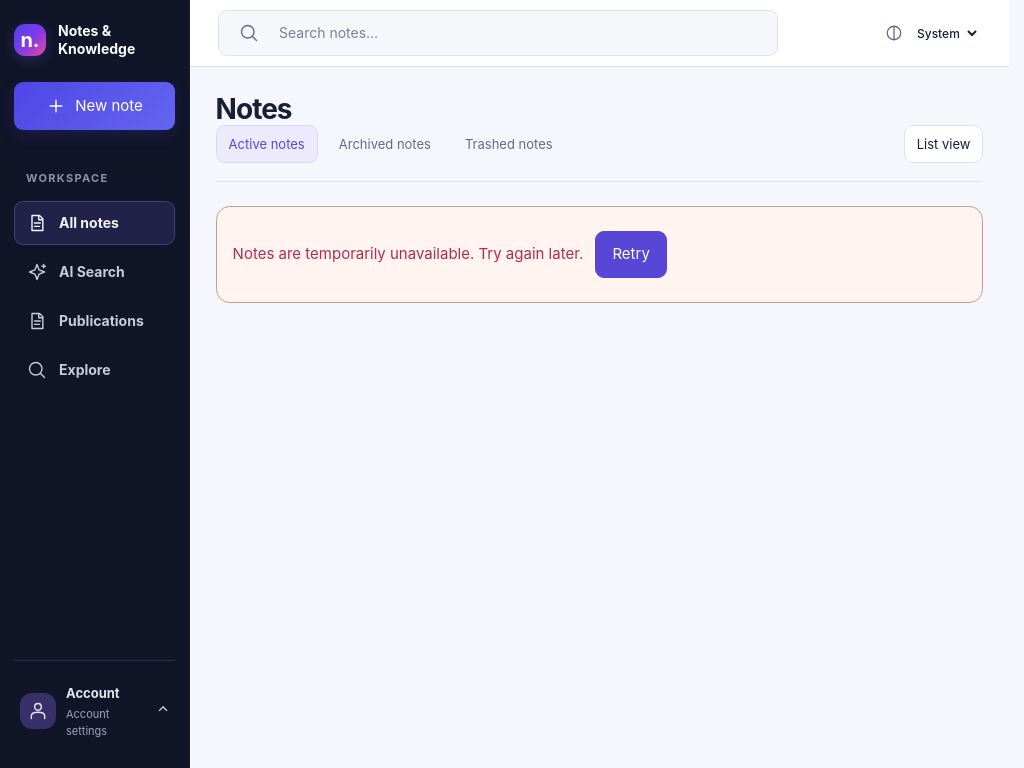
Test: private Notes browser journey › keeps library failure distinct from empty state and exposes a working retry
The image size is (1024, 768).
Expected: the message shows "Notes are temporarily unavailable", [233,244,583,263]
Expected: the text "No notes yet" is not shown
Step 1. Click the button "Retry" → (631, 254), box [595,231,667,278]
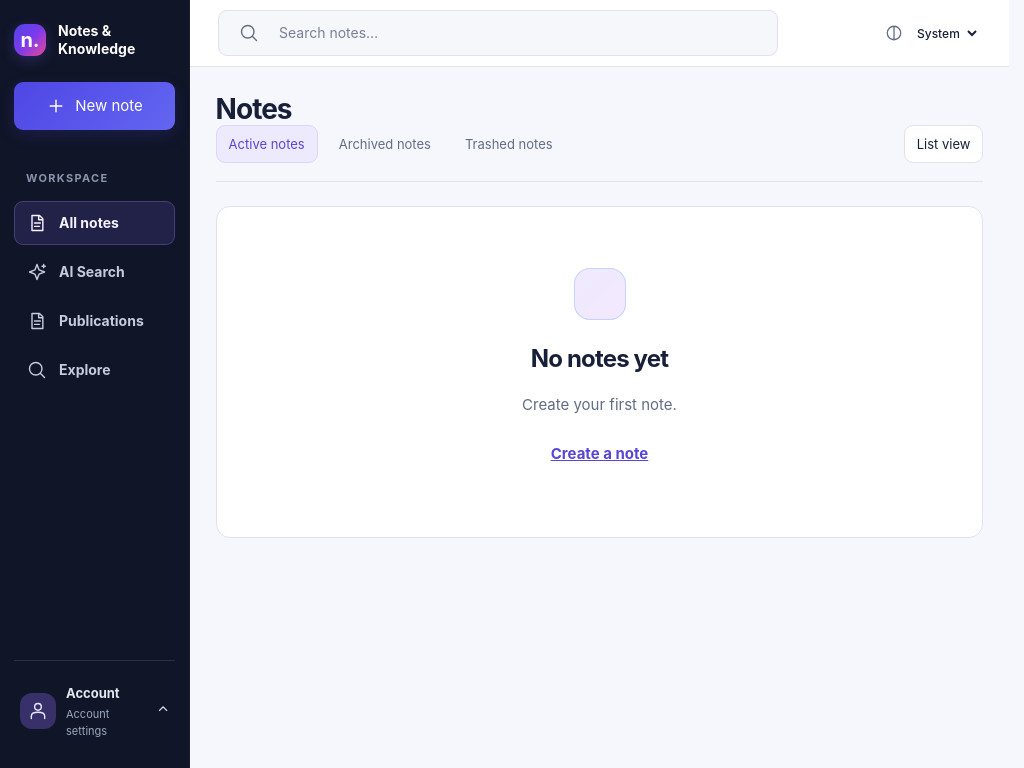
Expected: the heading "No notes yet" is shown, [531,344,668,373]
Expected: the message "Notes are temporarily unavailable. Try again later. Retry" is gone
